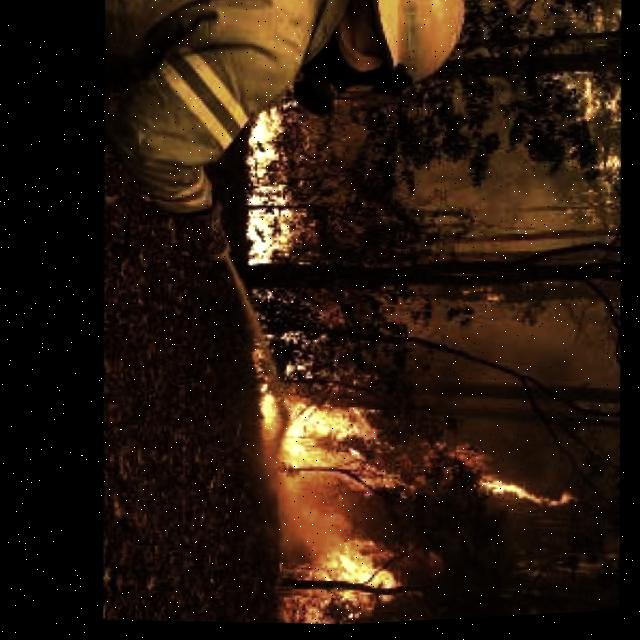Smoke: (242, 371, 581, 536), (262, 523, 467, 630), (235, 94, 322, 271)
